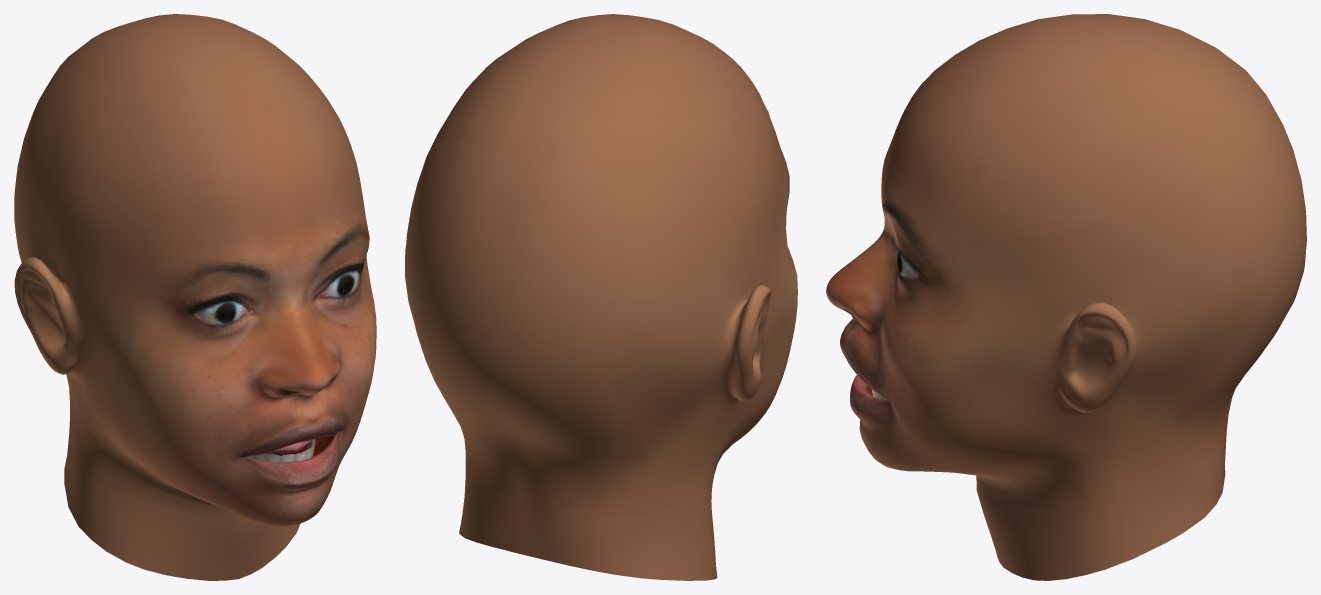
File: v332_obj_Phonemeeh.obj
3 views of the same model, side by side, from view 1: azimuth 30°, elevation 25°; view 2: azimuth 150°, elevation 25°; view 3: azimuth 270°, elevation 25° (orthographic). The views are drawn at different scales.
Visible parts, largest first — view 1: HeadHires, Mouth; view 2: HeadHires; view 3: HeadHires.
Boxes of the visible parts, x1=… form: HeadHires: x1=14, y1=14, x2=376, y2=580; Mouth: x1=243, y1=436, x2=333, y2=462; HeadHires: x1=405, y1=14, x2=797, y2=580; HeadHires: x1=826, y1=14, x2=1306, y2=580.
Bounding box in the file's own units: 187 × 283 × 233.
